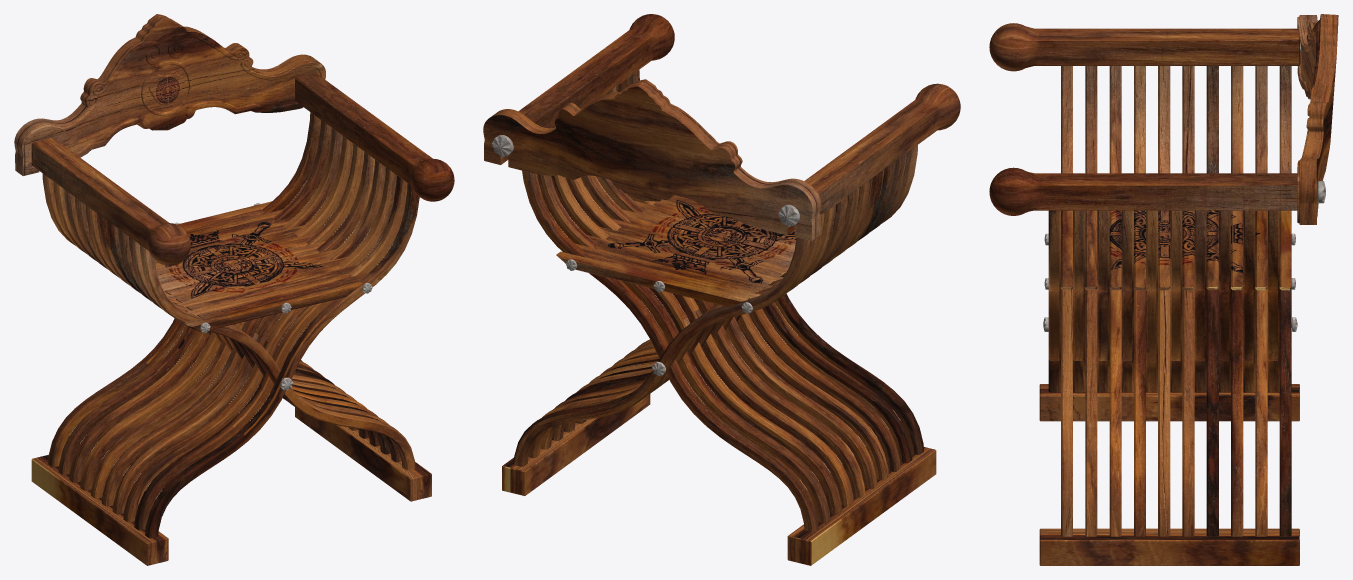
File: ca5c4366-77af-4809-a1c2-d37734bcf2aa.glb
3 views of the same model, side by side, from view 1: azimuth 30°, elevation 25°; view 2: azimuth 150°, elevation 25°; view 3: azimuth 270°, elevation 25° (orthographic). The views are drawn at different scales.
Visible parts, largest first — view 1: Medieval knight scissor chair.; view 2: Medieval knight scissor chair.; view 3: Medieval knight scissor chair..
Boxes of the visible parts, left/top/right/bottom form: Medieval knight scissor chair.: left=14, top=14, right=454, bottom=565; Medieval knight scissor chair.: left=483, top=14, right=960, bottom=565; Medieval knight scissor chair.: left=989, top=14, right=1338, bottom=565.
Size of the model in its own units: 0.7051 by 0.9331 by 0.6233.
4 materials, 4 textured.
